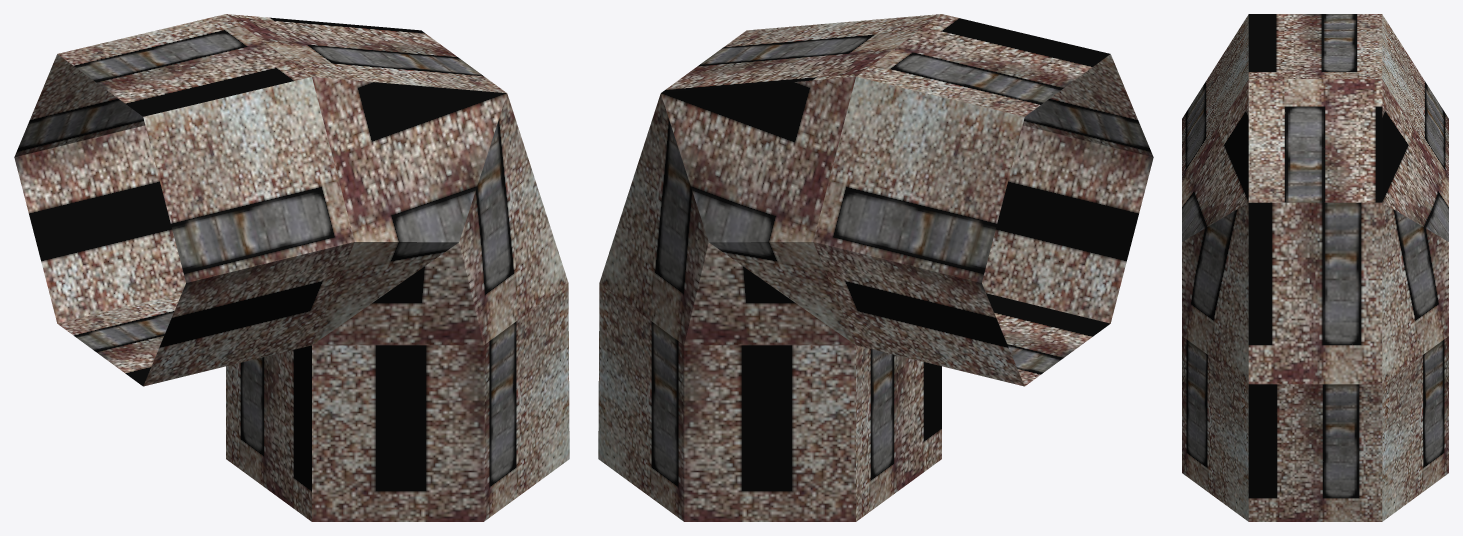
File: Urban_PipeCorner_Model.fbx
The picture shows the model from 3 angles, left to right: view 1: azimuth 30°, elevation 25°; view 2: azimuth 150°, elevation 25°; view 3: azimuth 270°, elevation 25°; orthographic projection. The views are drawn at different scales.
Visible parts, largest first — view 1: Urban_PipeCorner_Mesh; view 2: Urban_PipeCorner_Mesh; view 3: Urban_PipeCorner_Mesh.
Boxes of the visible parts, left/top/right/bottom form: Urban_PipeCorner_Mesh: left=14, top=14, right=569, bottom=521; Urban_PipeCorner_Mesh: left=598, top=14, right=1153, bottom=521; Urban_PipeCorner_Mesh: left=1182, top=14, right=1448, bottom=521.
Size of the model in its own units: 0.7165 by 0.7165 by 0.5.
